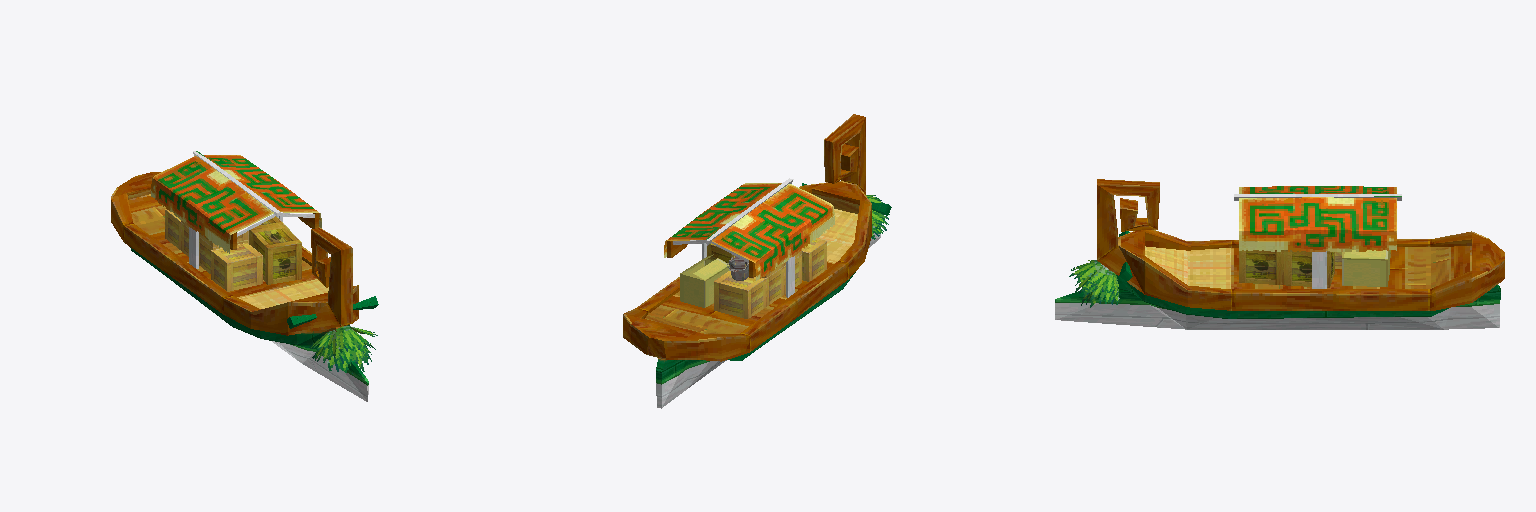
3 renders of one model, left to right at view 1: azimuth 30°, elevation 25°; view 2: azimuth 150°, elevation 25°; view 3: azimuth 270°, elevation 25°, orthographic.
Parts seen in each view (by area): view 1: shipdolpic; view 2: shipdolpic; view 3: shipdolpic.
Part boxes in pixels (bbox=[...]): shipdolpic: bbox=[111, 151, 378, 401]; shipdolpic: bbox=[623, 114, 891, 408]; shipdolpic: bbox=[1055, 179, 1504, 329].
Size of the model in its own units: 500 by 620 by 1715.
Materials: 2 (1 with a texture image).